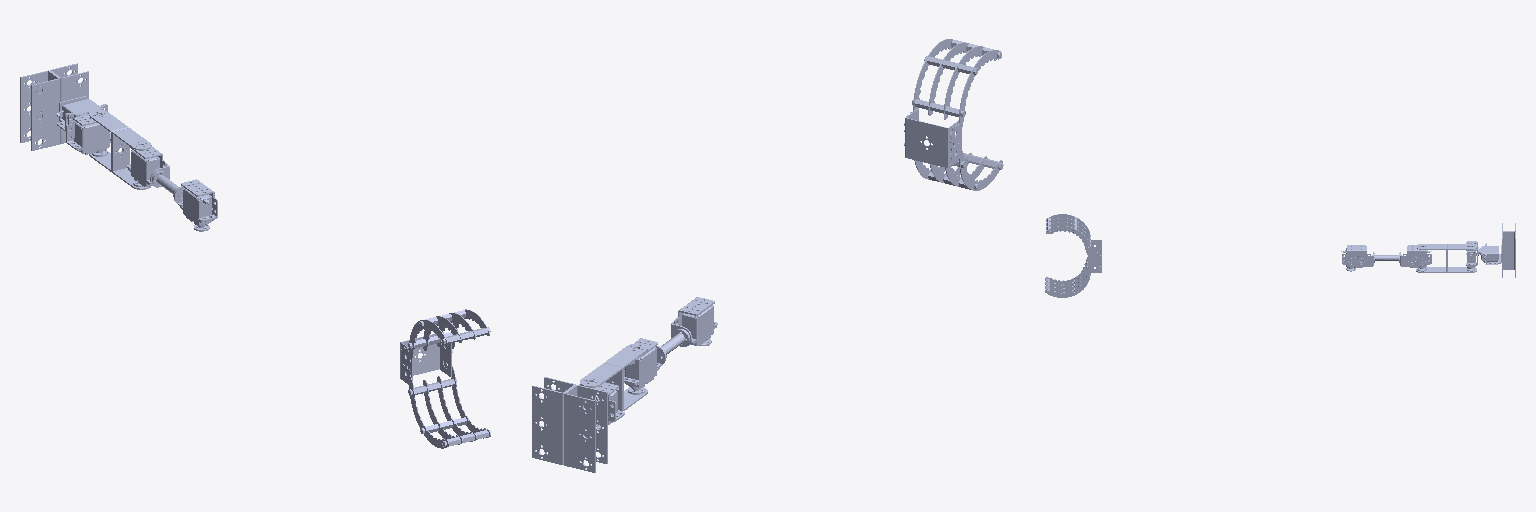
URDF robot description (reclaim_arm):
<?xml version="1.0" encoding="utf-8"?>
<!-- This URDF was automatically created by SolidWorks to URDF Exporter! Originally created by Stephen Brawner (brawner@gmail.com) 
     Commit Version: 1.6.0-4-g7f85cfe  Build Version: 1.6.7995.38578
     For more information, please see http://wiki.ros.org/sw_urdf_exporter -->
<robot
  name="reclaim_arm">
  <link
    name="base_link">
    <inertial>
      <origin
        xyz="0.00060581 -0.001246 -0.046464"
        rpy="0 0 0" />
      <mass
        value="0.07337" />
      <inertia
        ixx="3.2568E-05"
        ixy="5.8892E-09"
        ixz="3.9477E-08"
        iyy="1.9034E-05"
        iyz="1.6679E-07"
        izz="3.754E-05" />
    </inertial>
    <visual>
      <origin
        xyz="0 0 0"
        rpy="0 0 0" />
      <geometry>
        <mesh
          filename="package://reclaim_arm_moveit_config/meshes/base_link.STL" />
      </geometry>
      <material
        name="">
        <color
          rgba="0.79216 0.81961 0.93333 1" />
      </material>
    </visual>
    <collision>
      <origin
        xyz="0 0 0"
        rpy="0 0 0" />
      <geometry>
        <mesh
          filename="package://reclaim_arm_moveit_config/meshes/base_link.STL" />
      </geometry>
    </collision>
  </link>
  <link
    name="shoulder_link">
    <inertial>
      <origin
        xyz="0.00046002 -0.0098996 0.01241"
        rpy="0 0 0" />
      <mass
        value="0.037034" />
      <inertia
        ixx="2.9036E-06"
        ixy="3.9477E-08"
        ixz="-8.9959E-13"
        iyy="6.9967E-06"
        iyz="-1.6679E-07"
        izz="7.2467E-06" />
    </inertial>
    <visual>
      <origin
        xyz="0 0 0"
        rpy="0 0 0" />
      <geometry>
        <mesh
          filename="package://reclaim_arm_moveit_config/meshes/shoulder_link.STL" />
      </geometry>
      <material
        name="">
        <color
          rgba="0.79216 0.81961 0.93333 1" />
      </material>
    </visual>
    <collision>
      <origin
        xyz="0 0 0"
        rpy="0 0 0" />
      <geometry>
        <mesh
          filename="package://reclaim_arm_moveit_config/meshes/shoulder_link.STL" />
      </geometry>
    </collision>
  </link>
  <joint
    name="base_joint"
    type="revolute">
    <origin
      xyz="0 0 0"
      rpy="1.5708 0 0" />
    <parent
      link="base_link" />
    <child
      link="shoulder_link" />
    <axis
      xyz="0 0 1" />
    <limit
      lower="-1.61"
      upper="2.76"
      effort="10"
      velocity="2" />
  </joint>
  <link
    name="upper_arm_link">
    <inertial>
      <origin
        xyz="1.3297E-14 -0.011444 0.052"
        rpy="0 0 0" />
      <mass
        value="0.016627" />
      <inertia
        ixx="1.6412E-05"
        ixy="1.486E-19"
        ixz="-6.5645E-21"
        iyy="7.5576E-06"
        iyz="-3.0563E-21"
        izz="1.0611E-05" />
    </inertial>
    <visual>
      <origin
        xyz="0 0 0"
        rpy="0 0 0" />
      <geometry>
        <mesh
          filename="package://reclaim_arm_moveit_config/meshes/upper_arm_link.STL" />
      </geometry>
      <material
        name="">
        <color
          rgba="0.79216 0.81961 0.93333 1" />
      </material>
    </visual>
    <collision>
      <origin
        xyz="0 0 0"
        rpy="0 0 0" />
      <geometry>
        <mesh
          filename="package://reclaim_arm_moveit_config/meshes/upper_arm_link.STL" />
      </geometry>
    </collision>
  </link>
  <joint
    name="shoulder_joint"
    type="revolute">
    <origin
      xyz="0.01 0 0.013402"
      rpy="0 0 0" />
    <parent
      link="shoulder_link" />
    <child
      link="upper_arm_link" />
    <axis
      xyz="0 1 0" />
    <limit
      lower="-1.95"
      upper="2.76"
      effort="15"
      velocity="2" />
  </joint>
  <link
    name="forearm_link">
    <inertial>
      <origin
        xyz="0.0013458 -0.010048 0.074887"
        rpy="0 0 0" />
      <mass
        value="0.087067" />
      <inertia
        ixx="1.827E-05"
        ixy="3.3358E-07"
        ixz="1.6198E-12"
        iyy="1.7804E-05"
        iyz="7.3166E-16"
        izz="6.5989E-06" />
    </inertial>
    <visual>
      <origin
        xyz="0 0 0"
        rpy="0 0 0" />
      <geometry>
        <mesh
          filename="package://reclaim_arm_moveit_config/meshes/forearm_link.STL" />
      </geometry>
      <material
        name="">
        <color
          rgba="0.79216 0.81961 0.93333 1" />
      </material>
    </visual>
    <collision>
      <origin
        xyz="0 0 0"
        rpy="0 0 0" />
      <geometry>
        <mesh
          filename="package://reclaim_arm_moveit_config/meshes/forearm_link.STL" />
      </geometry>
    </collision>
  </link>
  <joint
    name="elbow_joint"
    type="revolute">
    <origin
      xyz="0 0 0.104"
      rpy="0 0 0" />
    <parent
      link="upper_arm_link" />
    <child
      link="forearm_link" />
    <axis
      xyz="0 1 0" />
    <limit
      lower="-1.93"
      upper="2.78"
      effort="10"
      velocity="2" />
  </joint>
  <link
    name="wrist_pitch_link">
    <inertial>
      <origin
        xyz="-0.024668 -0.011695 0.043013"
        rpy="0 0 0" />
      <mass
        value="0.10081" />
      <inertia
        ixx="5.5279E-05"
        ixy="-1.5687E-07"
        ixz="3.235E-09"
        iyy="2.0779E-05"
        iyz="-5.646E-08"
        izz="6.76E-05" />
    </inertial>
    <visual>
      <origin
        xyz="0 0 0"
        rpy="0 0 0" />
      <geometry>
        <mesh
          filename="package://reclaim_arm_moveit_config/meshes/wrist_pitch_link.STL" />
      </geometry>
      <material
        name="">
        <color
          rgba="0.79216 0.81961 0.93333 1" />
      </material>
    </visual>
    <collision>
      <origin
        xyz="0 0 0"
        rpy="0 0 0" />
      <geometry>
        <mesh
          filename="package://reclaim_arm_moveit_config/meshes/wrist_pitch_link.STL" />
      </geometry>
    </collision>
  </link>
  <joint
    name="wrist_pitch_joint"
    type="revolute">
    <origin
      xyz="0 0 0.15032"
      rpy="0 0 0" />
    <parent
      link="forearm_link" />
    <child
      link="wrist_pitch_link" />
    <axis
      xyz="0 1 0" />
    <limit
      lower="-0.4"
      upper="1.96"
      effort="10"
      velocity="2" />
  </joint>
  <link
    name="tool0">
    <inertial>
      <origin
        xyz="0.010754 -0.0010765 0.39245"
        rpy="0 0 0" />
      <mass
        value="0.037311" />
      <inertia
        ixx="2.0211E-05"
        ixy="-2.8835E-08"
        ixz="1.8401E-08"
        iyy="1.638E-05"
        iyz="-1.2682E-07"
        izz="1.1617E-05" />
    </inertial>
    <visual>
      <origin
        xyz="0 0 0"
        rpy="0 0 0" />
      <geometry>
        <mesh
          filename="package://reclaim_arm_moveit_config/meshes/tool0.STL" />
      </geometry>
      <material
        name="">
        <color
          rgba="0.79216 0.81961 0.93333 1" />
      </material>
    </visual>
    <collision>
      <origin
        xyz="0 0 0"
        rpy="0 0 0" />
      <geometry>
        <mesh
          filename="package://reclaim_arm_moveit_config/meshes/tool0.STL" />
      </geometry>
    </collision>
  </link>
  <joint
    name="wrist_to_tool0"
    type="fixed">
    <origin
      xyz="0 0 0.189"
      rpy="0 0 0" />
    <parent
      link="wrist_pitch_link" />
    <child
      link="tool0" />
    <axis
      xyz="0 0 0" />
  </joint>
  <!-- ══════════════════════════════════════════════════ -->
  <!-- ros2_control: Servo Hardware Interface            -->
  <!-- Calibration from March 19, 2026                   -->
  <!-- ══════════════════════════════════════════════════ -->
  <ros2_control name="servo_hardware" type="system">
    <hardware>
      <plugin>reclaim_servo_hardware/ServoHardwareInterface</plugin>
      <param name="serial_port">/dev/ttyACM0</param>
      <param name="baud_rate">115200</param>
    </hardware>

    <!-- J1 Base — DS3218 270° — not inverted -->
    <joint name="base_joint">
      <command_interface name="position"/>
      <state_interface name="position"/>
      <param name="zero_us">1229</param>
      <param name="scale">0.002356</param>
      <param name="inverted">false</param>
      <param name="min_us">544</param>
      <param name="max_us">2400</param>
    </joint>

    <!-- J2 Shoulder — DS3240 270° — inverted -->
    <joint name="shoulder_joint">
      <command_interface name="position"/>
      <state_interface name="position"/>
      <param name="zero_us">1673</param>
      <param name="scale">0.002356</param>
      <param name="inverted">true</param>
      <param name="min_us">500</param>
      <param name="max_us">2500</param>
    </joint>

    <!-- J3 Elbow — DS3218 270° — not inverted -->
    <joint name="elbow_joint">
      <command_interface name="position"/>
      <state_interface name="position"/>
      <param name="zero_us">1320</param>
      <param name="scale">0.002356</param>
      <param name="inverted">false</param>
      <param name="min_us">500</param>
      <param name="max_us">2500</param>
    </joint>

    <!-- J4 Wrist Pitch — DS3218 270° — inverted -->
    <joint name="wrist_pitch_joint">
      <command_interface name="position"/>
      <state_interface name="position"/>
      <param name="zero_us">2230</param>
      <param name="scale">0.002356</param>
      <param name="inverted">true</param>
      <param name="min_us">1400</param>
      <param name="max_us">2400</param>
    </joint>
  </ros2_control>

</robot>

--- Render facts (derived) ---
3 views of the same robot in one strip: view 1: azimuth 30°, elevation 25°; view 2: azimuth 150°, elevation 25°; view 3: azimuth 270°, elevation 25° (orthographic).
Model reclaim_arm with 6 links and 5 joints (4 revolute, 1 fixed), rooted at base_link, posed every joint at zero.
Links seen in each view (by area): view 1: tool0, base_link, forearm_link, upper_arm_link, shoulder_link; view 2: tool0, base_link, forearm_link, upper_arm_link, shoulder_link; view 3: tool0, forearm_link, base_link, upper_arm_link.
Link boxes in pixels (bbox=[...]): tool0: bbox=[400, 309, 490, 448]; base_link: bbox=[20, 63, 107, 150]; forearm_link: bbox=[126, 145, 217, 231]; upper_arm_link: bbox=[89, 110, 151, 189]; shoulder_link: bbox=[66, 114, 110, 156]; tool0: bbox=[904, 39, 1003, 190]; base_link: bbox=[532, 377, 607, 472]; forearm_link: bbox=[624, 297, 717, 394]; upper_arm_link: bbox=[580, 343, 647, 428]; shoulder_link: bbox=[579, 382, 624, 426]; tool0: bbox=[1045, 214, 1101, 297]; forearm_link: bbox=[1341, 245, 1431, 271]; base_link: bbox=[1478, 223, 1515, 277]; upper_arm_link: bbox=[1416, 244, 1476, 272].
Size in the robot's own frame: 0.104 by 0.9962 by 0.1675 metres.
5 mesh visuals loaded from 6 distinct referenced files (5 binary STL); not drawn: 1 (reference not matched to a file when rendering).
